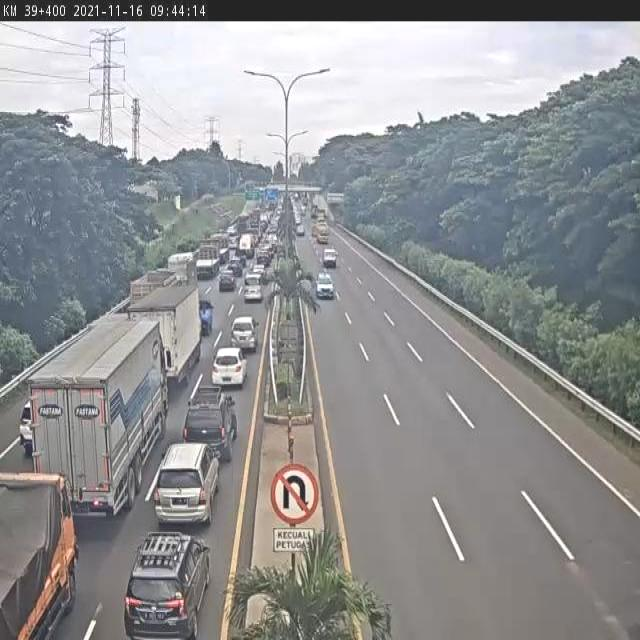Car: (121, 530, 211, 640), (152, 440, 221, 529), (182, 384, 240, 464), (211, 345, 248, 388), (230, 316, 258, 354), (19, 399, 35, 456), (199, 300, 214, 335), (316, 272, 335, 299), (243, 283, 263, 303), (244, 272, 263, 291), (219, 272, 235, 291), (251, 264, 266, 282), (228, 259, 243, 277), (256, 248, 271, 266), (323, 248, 337, 267), (296, 224, 306, 236)
Truck: (23, 320, 173, 520), (0, 470, 77, 640), (127, 279, 204, 392), (130, 267, 184, 304), (194, 243, 220, 280), (167, 252, 196, 282), (209, 234, 230, 262), (238, 233, 255, 259), (316, 222, 329, 244)
